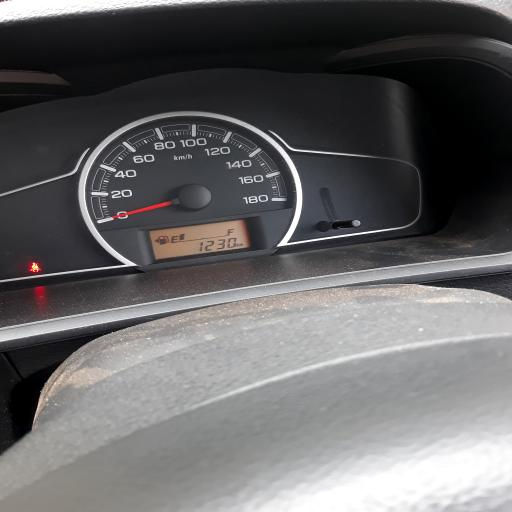belt: (30, 262, 42, 273)
